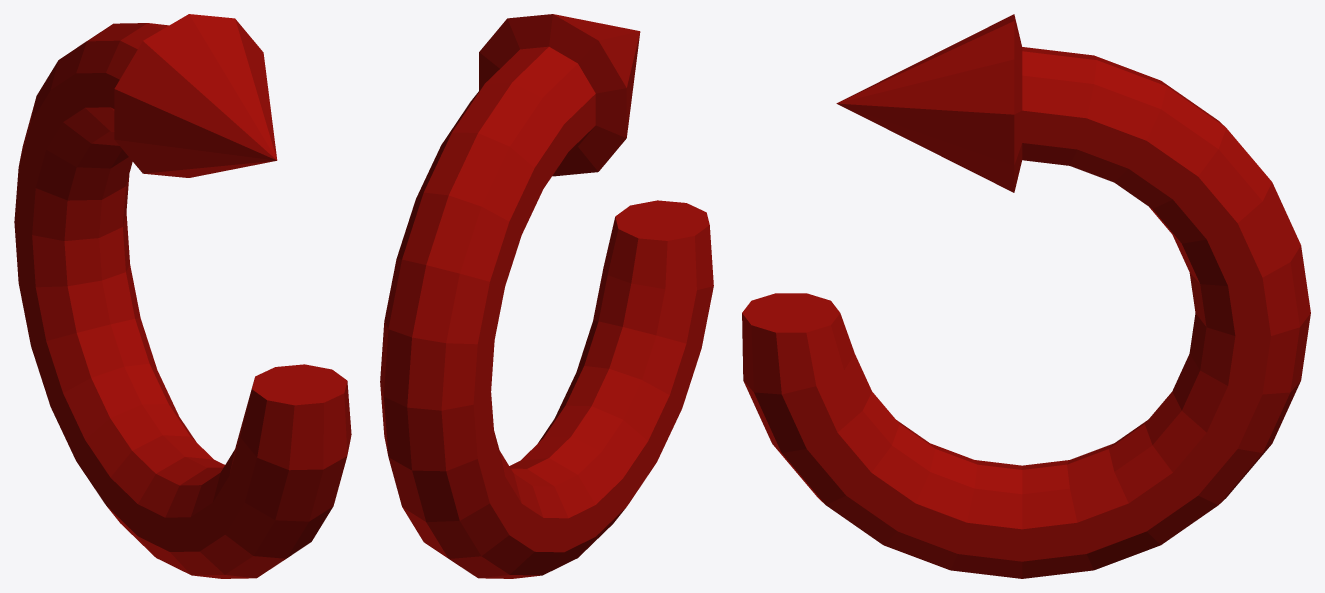
File: speed.fbx
3 renders of one model, left to right at view 1: azimuth 30°, elevation 25°; view 2: azimuth 150°, elevation 25°; view 3: azimuth 270°, elevation 25°, orthographic.
Parts seen in each view (by area): view 1: Torus; view 2: Torus; view 3: Torus.
Boxes of the visible parts, <box> form: Torus: <box>14,14,351,578</box>; Torus: <box>380,14,713,578</box>; Torus: <box>742,14,1310,578</box>.
Size of the model in its own units: 75.13 by 264 by 246.
